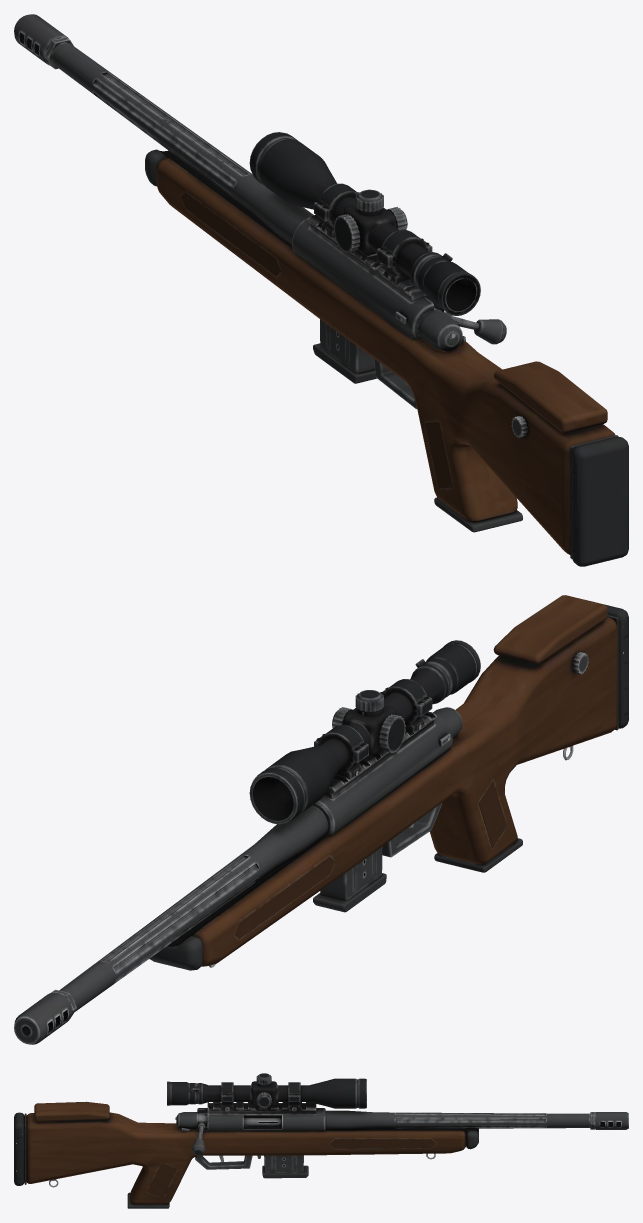
The model's file is sniper-fp.glb.
3 renders of one model, top to bottom at view 1: azimuth 30°, elevation 25°; view 2: azimuth 150°, elevation 25°; view 3: azimuth 270°, elevation 25°, orthographic. The views are drawn at different scales.
Visible parts, largest first — view 1: sniper rifle, bolt-mesh, mag-mesh; view 2: sniper rifle, mag-mesh; view 3: sniper rifle, bolt-mesh, mag-mesh.
Part boxes in pixels (left/top/right/bottom): sniper rifle: left=14, top=14, right=628, bottom=566; bolt-mesh: left=418, top=307, right=506, bottom=351; mag-mesh: left=313, top=319, right=376, bottom=383; sniper rifle: left=14, top=595, right=628, bottom=1044; mag-mesh: left=313, top=846, right=386, bottom=912; sniper rifle: left=14, top=1073, right=628, bottom=1208; bolt-mesh: left=175, top=1112, right=281, bottom=1155; mag-mesh: left=262, top=1155, right=308, bottom=1178.
Size of the model in its own units: 0.1061 by 0.2279 by 1.
Materials: 1 (1 with a texture image).
